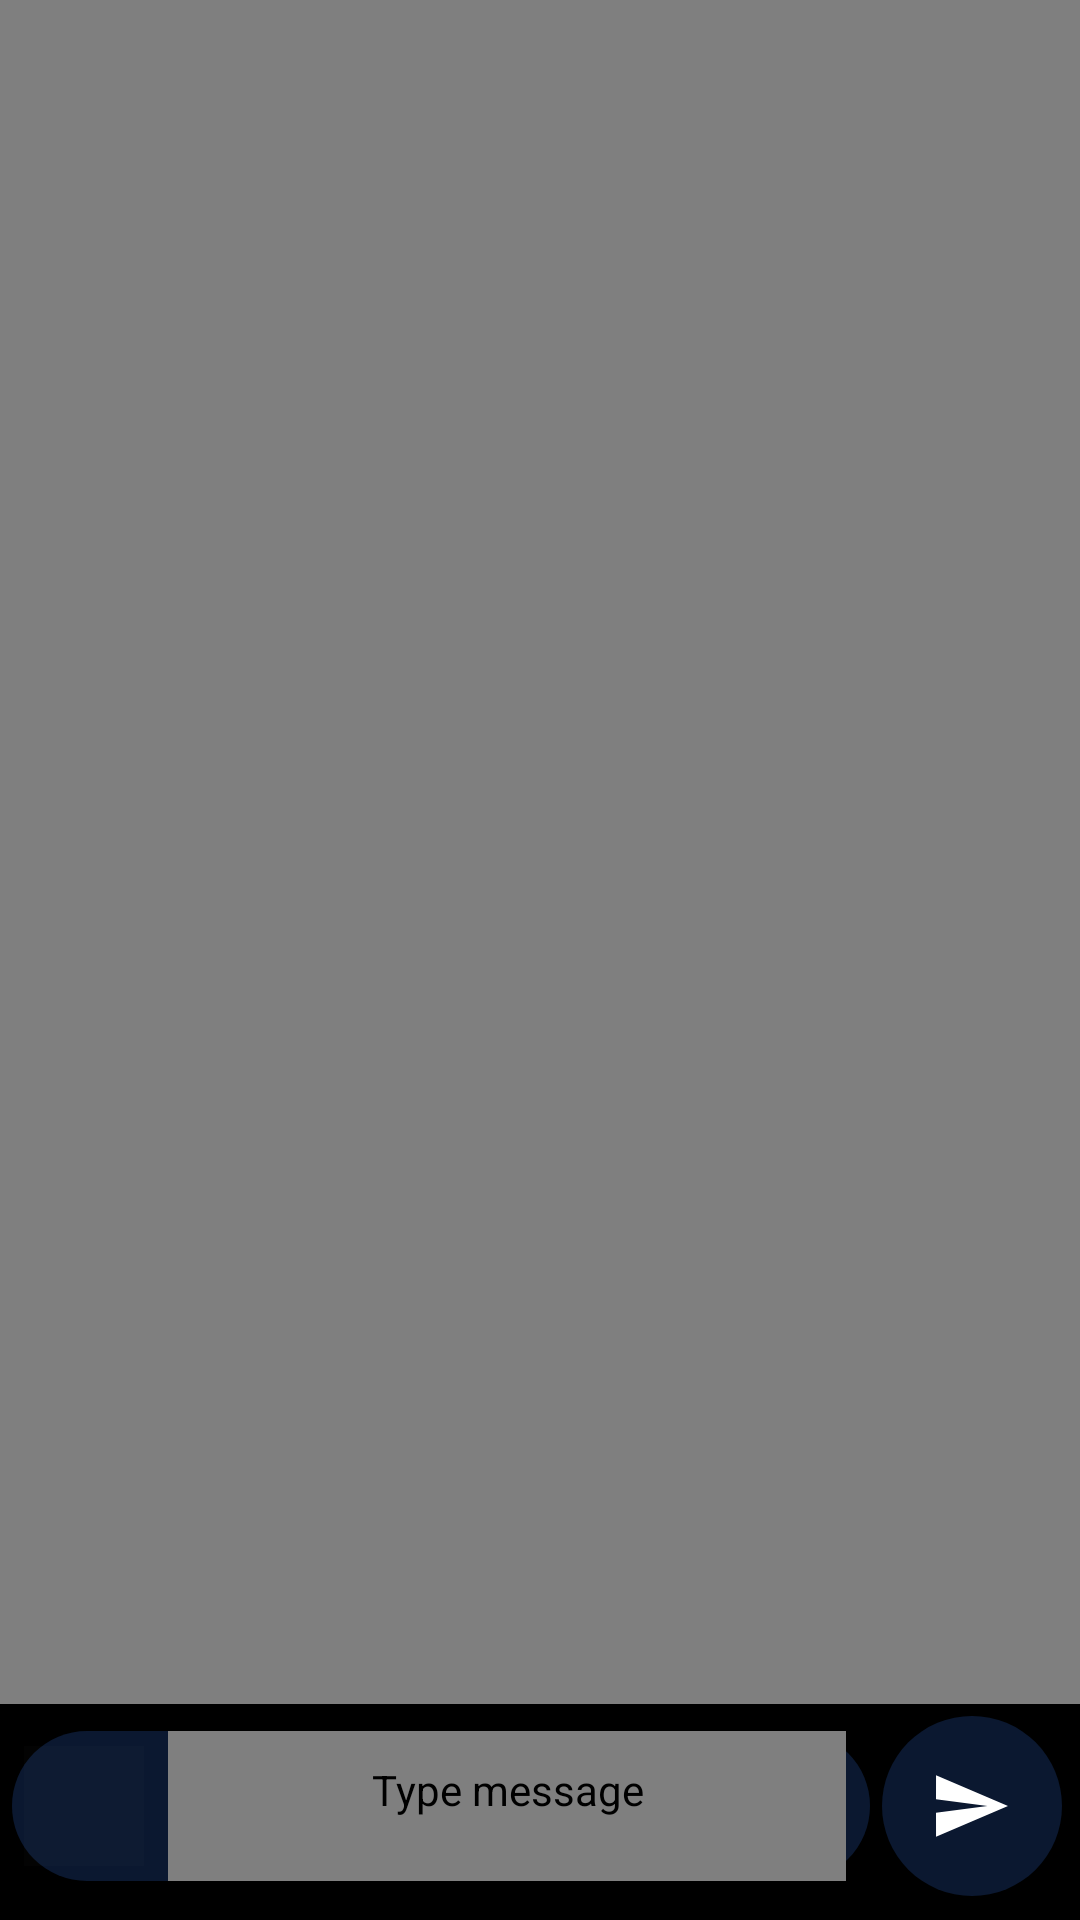

Locate icon controls on the screen. Image size 1080*1920, boxes as detection(x1, y1, x2, y2).
send Button: detection(882, 1716, 1062, 1896)
